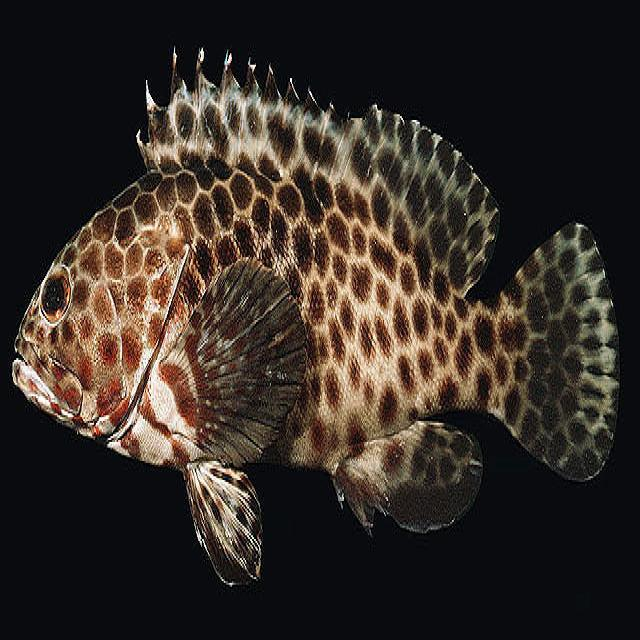ikan: (11, 42, 621, 587)
